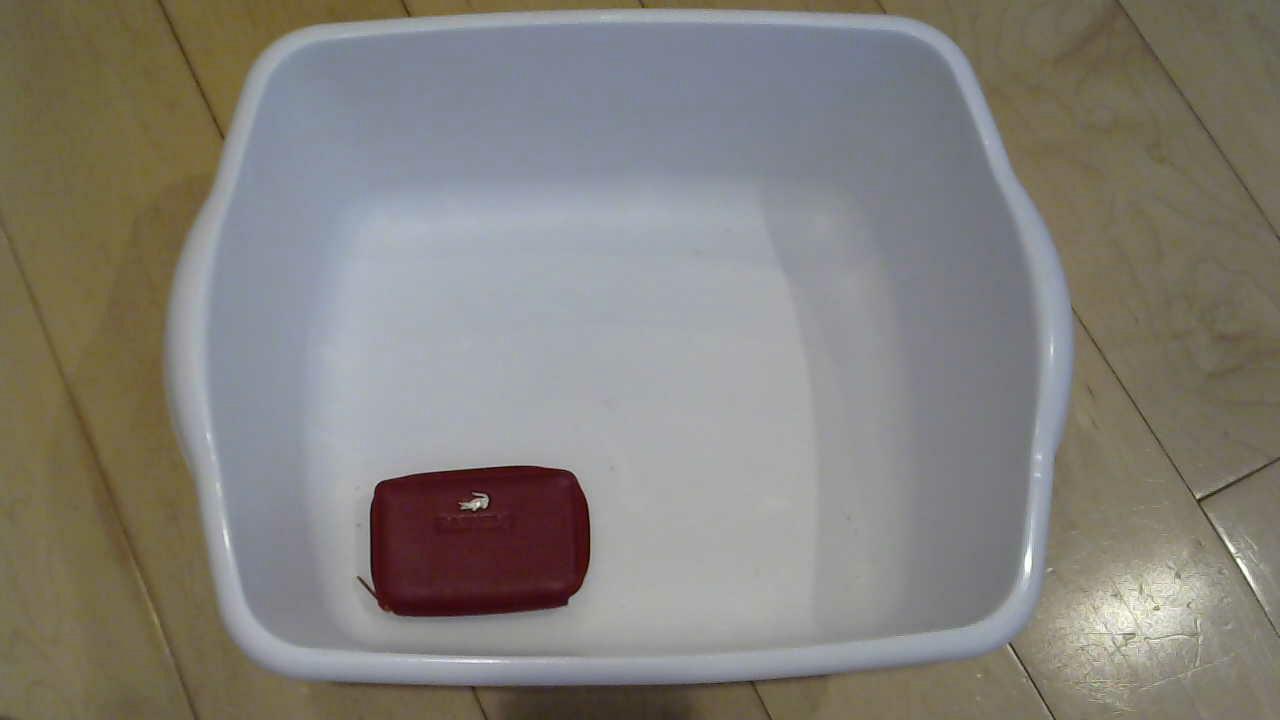wallet: (364, 464, 604, 619)
